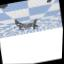drone: (13, 16, 39, 33)
